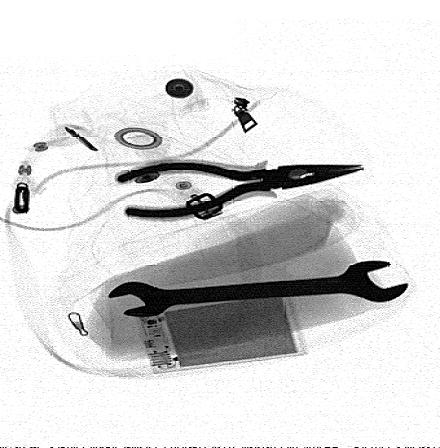Pliers: (115, 162, 366, 220)
Powerbank: (135, 288, 307, 374)
Wrench: (105, 259, 407, 317)
